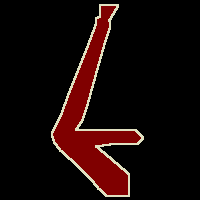tie: (52, 4, 143, 196)
